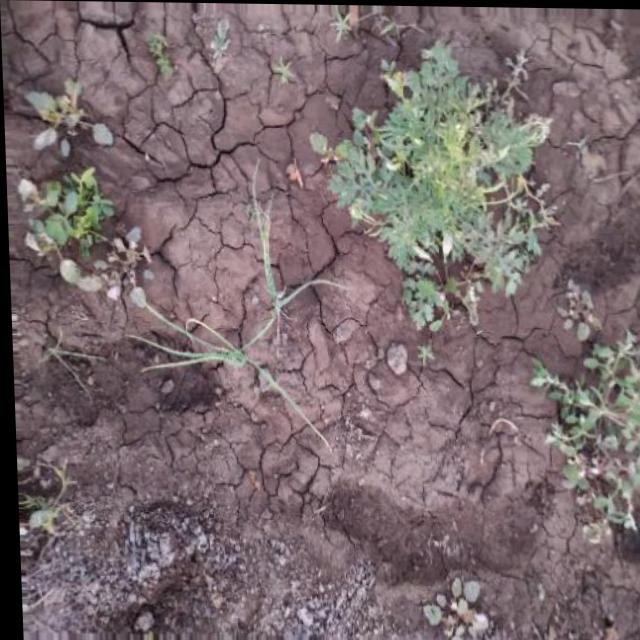weed: (305, 44, 586, 328), (4, 63, 161, 320), (526, 328, 640, 540), (410, 575, 501, 640)
